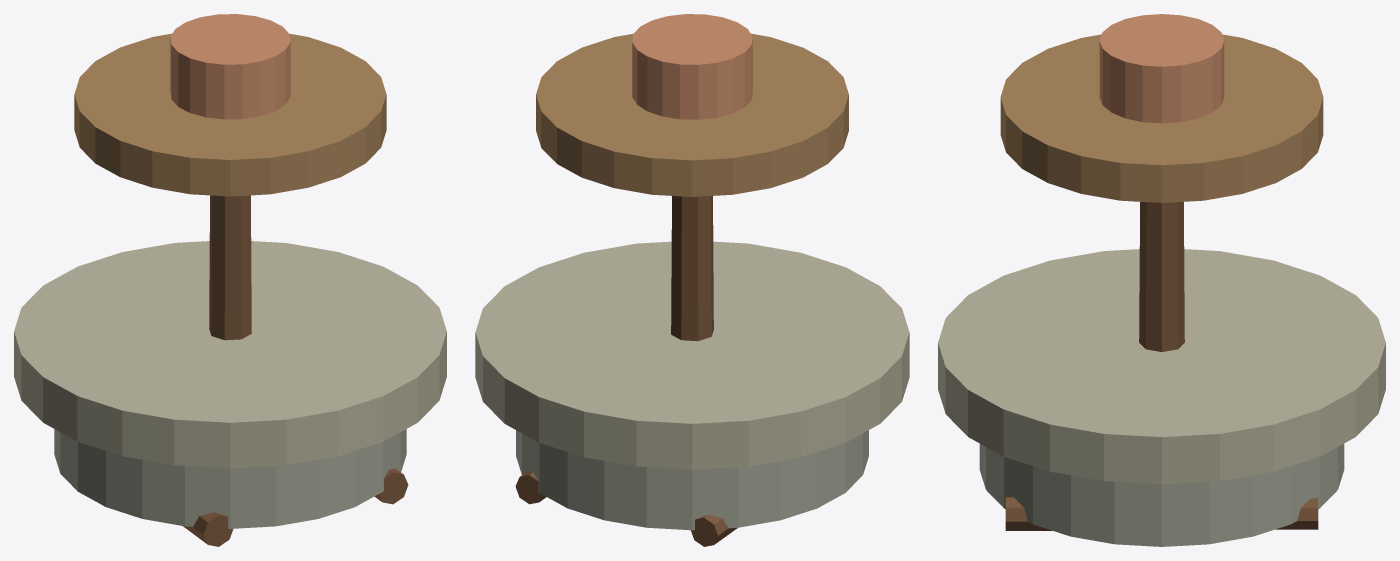
The picture shows the model from 3 angles, left to right: view 1: azimuth 30°, elevation 25°; view 2: azimuth 150°, elevation 25°; view 3: azimuth 270°, elevation 25°; orthographic projection. The views are drawn at different scales.
Visible parts, largest first — view 1: RF-042 Flywheel potters throwing stand batched; view 2: RF-042 Flywheel potters throwing stand batched; view 3: RF-042 Flywheel potters throwing stand batched.
Part boxes in pixels (x1,y1,x2,y2): RF-042 Flywheel potters throwing stand batched: (14,14,446,546); RF-042 Flywheel potters throwing stand batched: (475,14,909,546); RF-042 Flywheel potters throwing stand batched: (938,14,1385,546).
Size of the model in its own units: 0.86 by 0.945 by 0.86.
